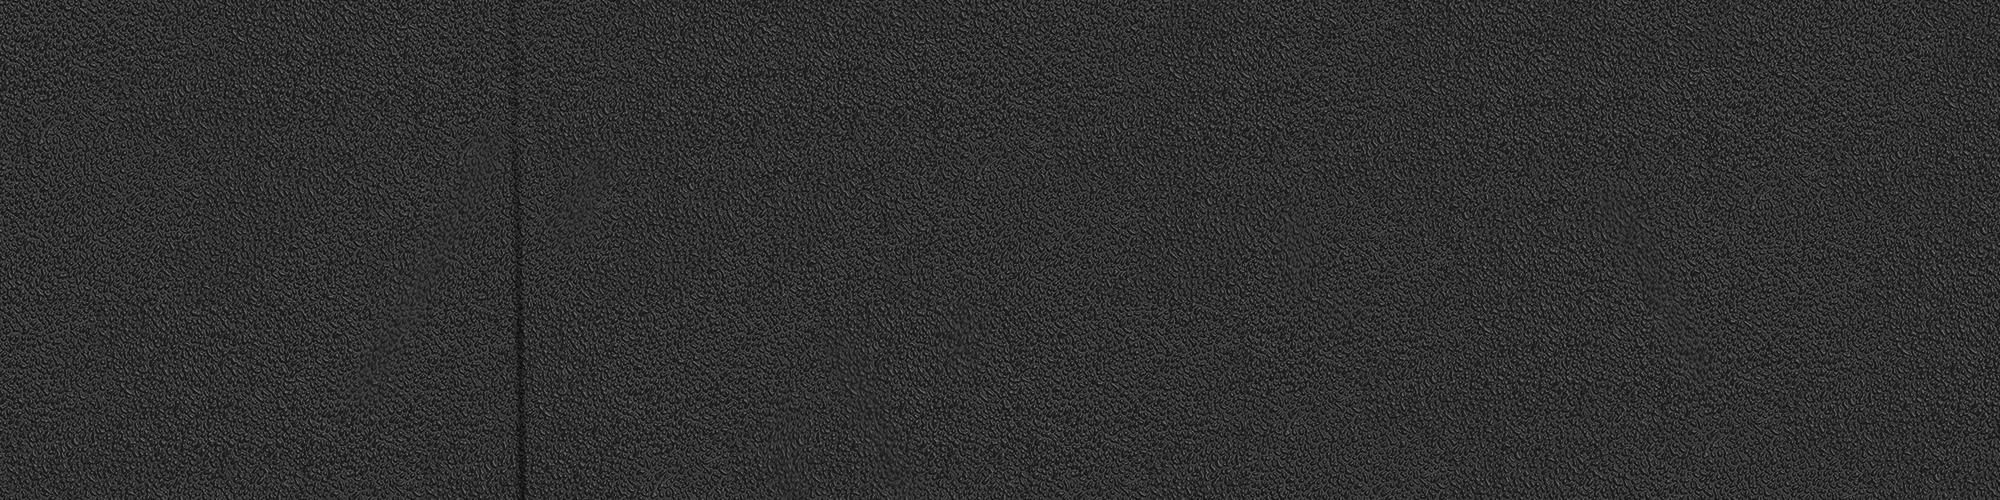DieDrag: (494, 4, 540, 497)
